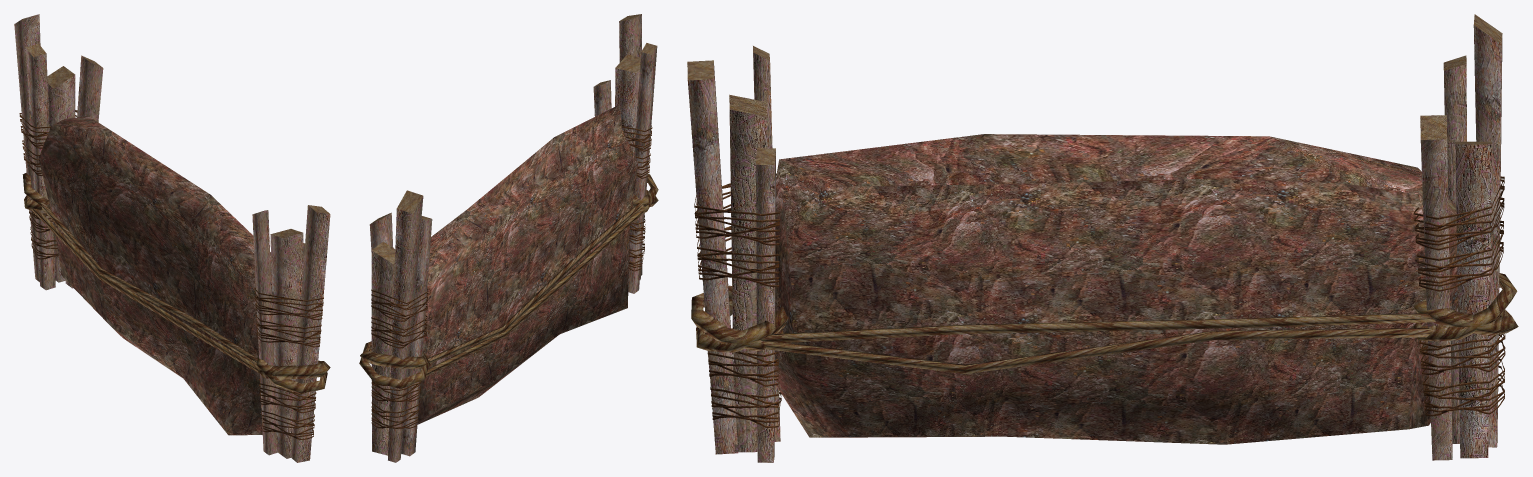
File: thm_dath_night_sister_fence_s01_l2.fbx
3 renders of one model, left to right at view 1: azimuth 30°, elevation 25°; view 2: azimuth 150°, elevation 25°; view 3: azimuth 270°, elevation 25°, orthographic. The views are drawn at different scales.
Visible parts, largest first — view 1: mesh_node; view 2: mesh_node; view 3: mesh_node.
Part boxes in pixels (<box>): mesh_node: <box>14,14,330,462</box>; mesh_node: <box>359,14,658,462</box>; mesh_node: <box>687,14,1518,462</box>.
Size of the model in its own units: 1.32 by 4.88 by 8.87.
